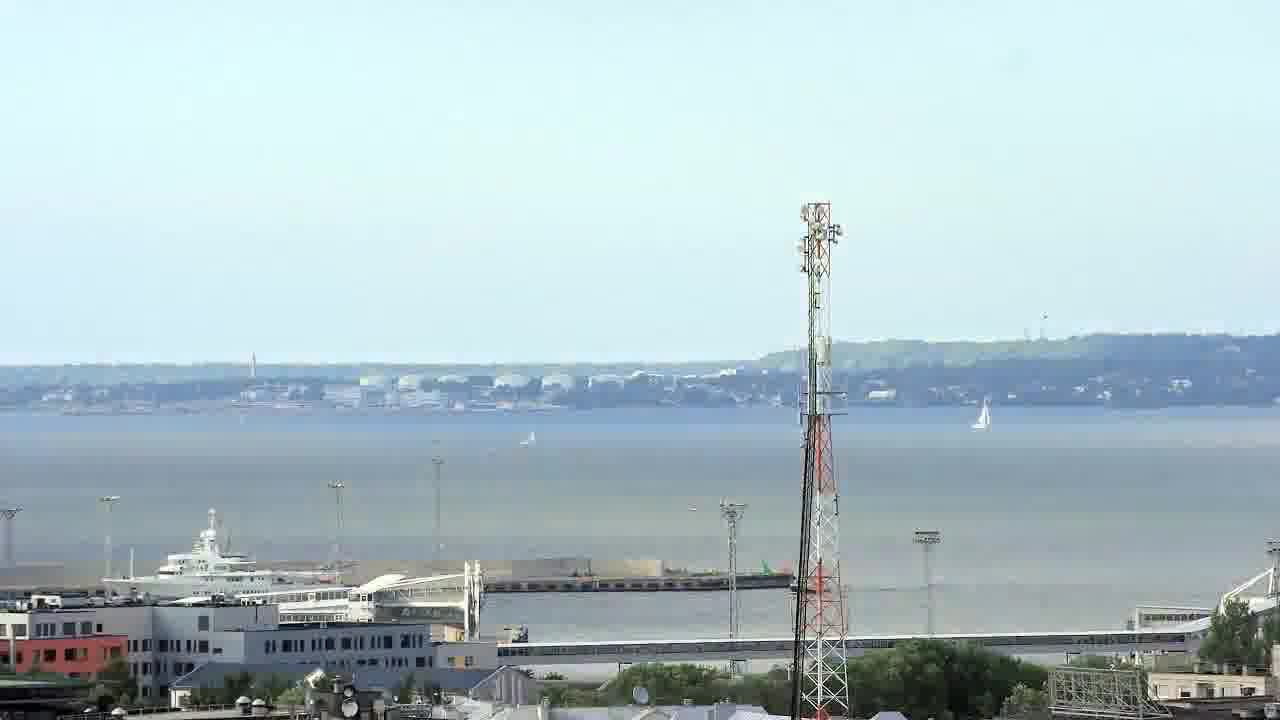type-2: (950, 383, 1021, 445)
type-3: (88, 507, 346, 605)
